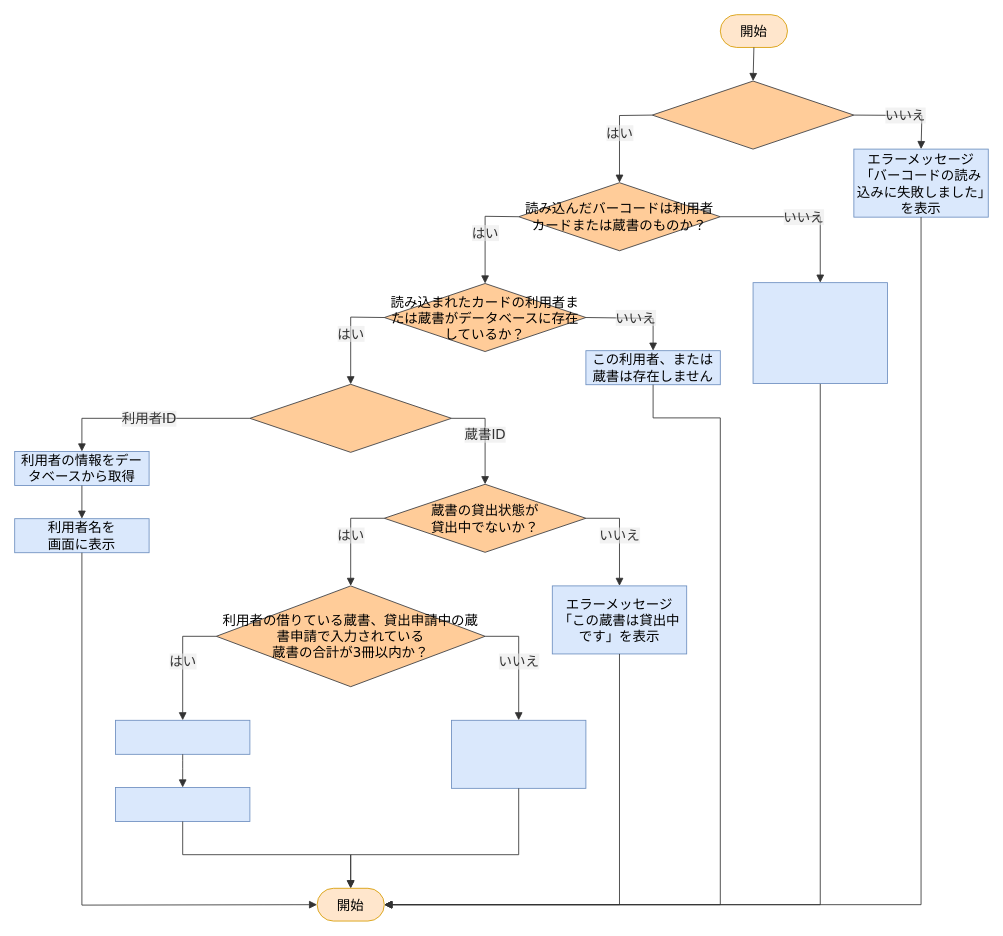
Some shapes in this 1003 by 936 pixel diagram are drawn without their labels. The shapes that lost their labels are listed below. From the top down, each one's centre as x and y in pixels, then its label:
At pixel 752 114: "バーコードが正常に 読み込めたか？".
At pixel 819 332: "エラーメッセージ「利用者カードまたは蔵書のバーコードを読み込んでください」を表示".
At pixel 350 417: "読み込まれたのは利用者IDと蔵書IDのどちらか？".
At pixel 182 736: "蔵書の情報を データベースから取得".
At pixel 518 753: "エラーメッセージ「貸出上限に達しています」を表示".
At pixel 182 804: "蔵書のタイトルを画面に表示".
